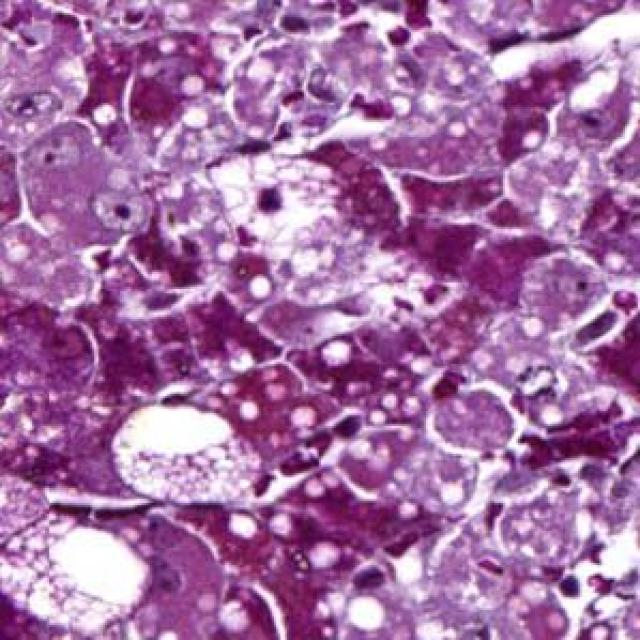ballooning: (9, 509, 156, 640), (107, 398, 261, 512), (201, 152, 351, 248)
